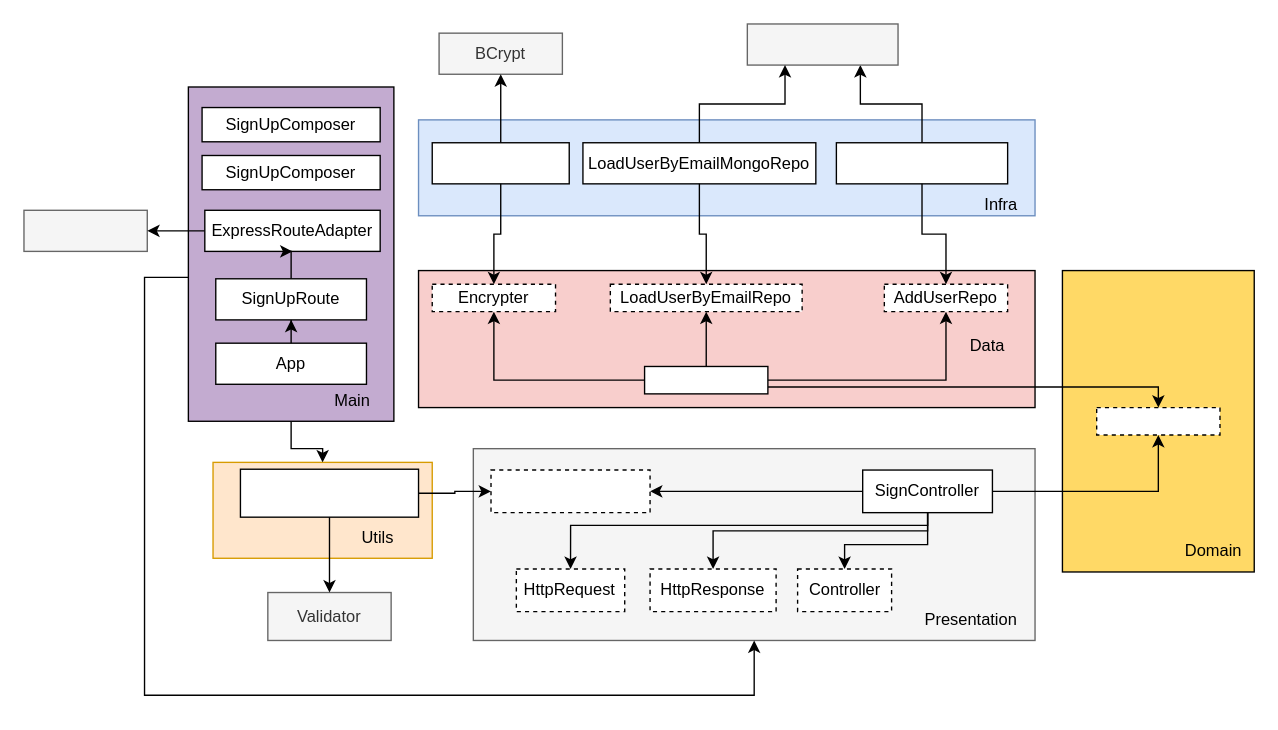
Image size: 1278x730. Some labels were removed from this diagram. The shapes that lost their labels are listed below. From the top down, each one's centre as x and y in pixels, then its label:
At [822,44]: "MongoDB".
At [500,162]: "BCryptAdapter".
At [921,162]: "AddUserMongoRepo".
At [85,230]: "Express".
At [705,379]: "DbAddAccount".
At [1157,420]: "AddAccount".
At [329,492]: "EmailValidatorAdapter".
At [570,491]: "EmailValidator".
